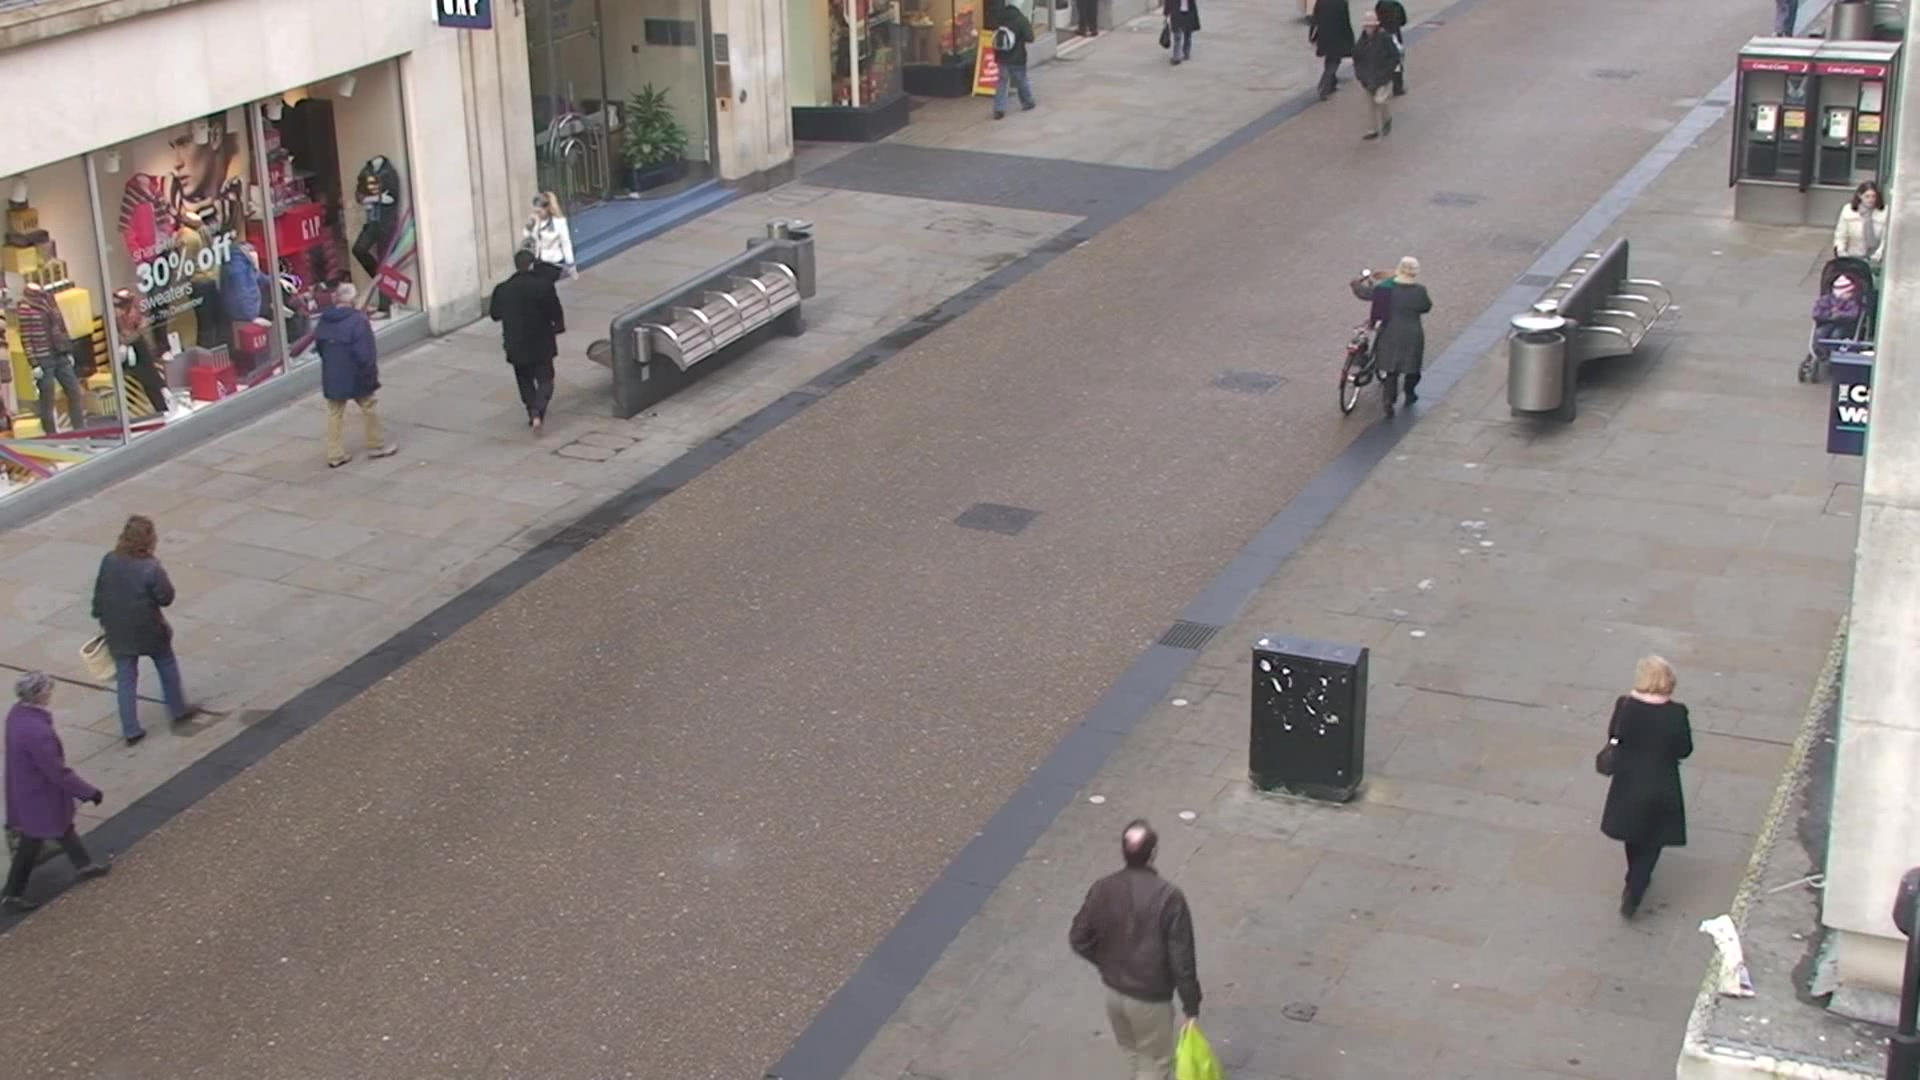person: (88, 515, 206, 748), (4, 671, 111, 904), (1607, 654, 1693, 921), (314, 281, 402, 475), (492, 252, 569, 429), (1351, 256, 1432, 420), (1355, 12, 1402, 143)
